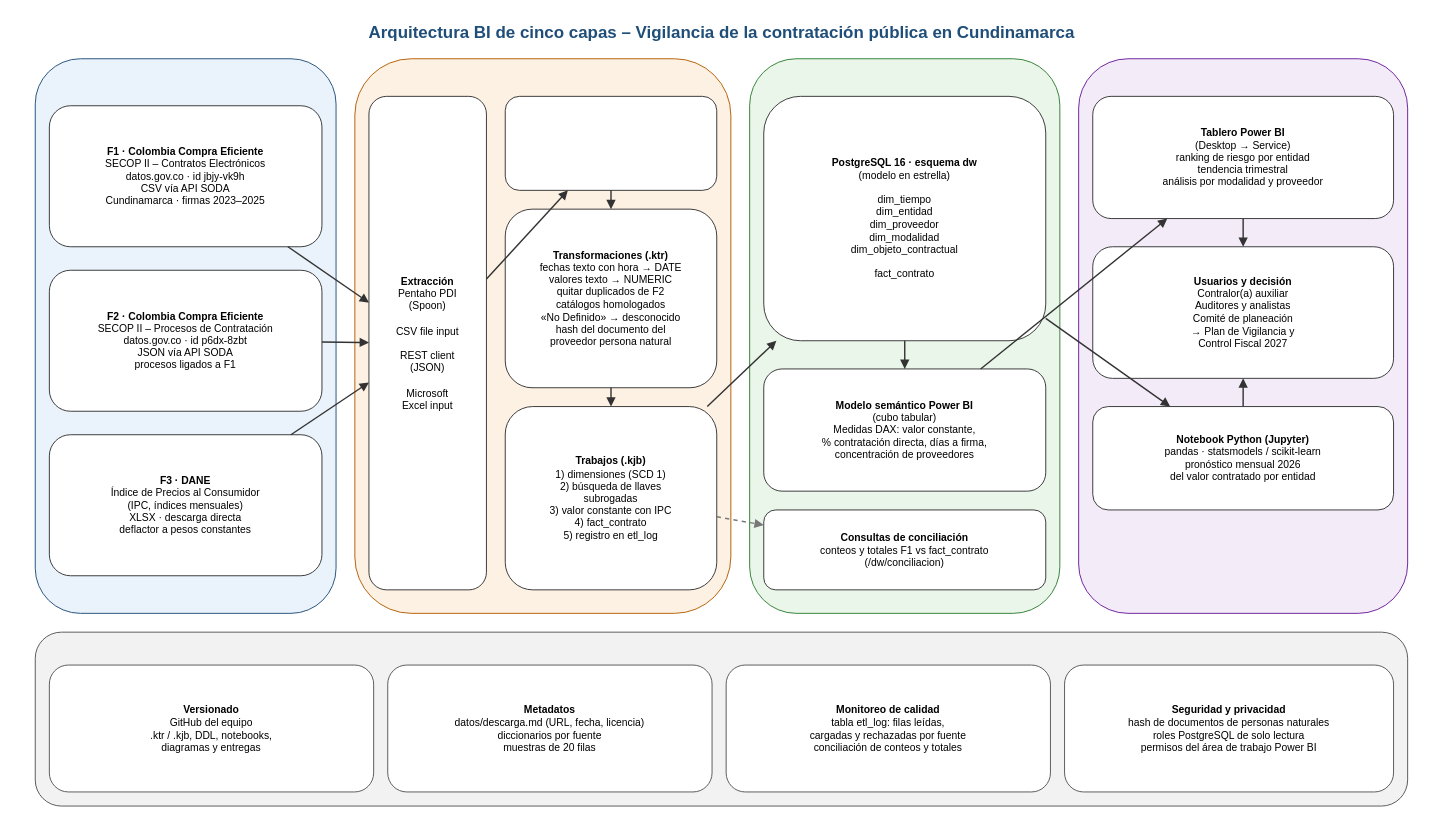
Some shapes in this 1442 by 823 pixel diagram are drawn without their labels. Each missing label, with the box of its shape:
1. Fuentes de datos: (34, 58, 336, 613)
2. Integración (ETL): (354, 58, 731, 613)
3. Almacén de datos: (749, 58, 1060, 613)
4. Usuario final: (1078, 58, 1408, 613)
5. Gobierno, metadatos, monitoreo y seguridad (capa transversal): (34, 631, 1408, 806)
Staging · PostgreSQL esquema stg stg_contrato · stg_proceso stg_ipc: (504, 95, 717, 190)
